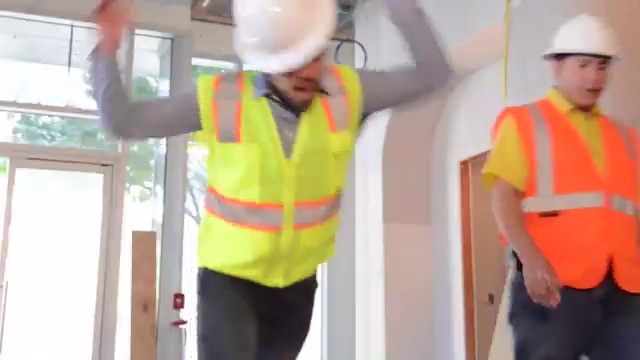helmet: (541, 13, 631, 61)
jacket: (194, 66, 362, 300), (485, 98, 640, 300)
